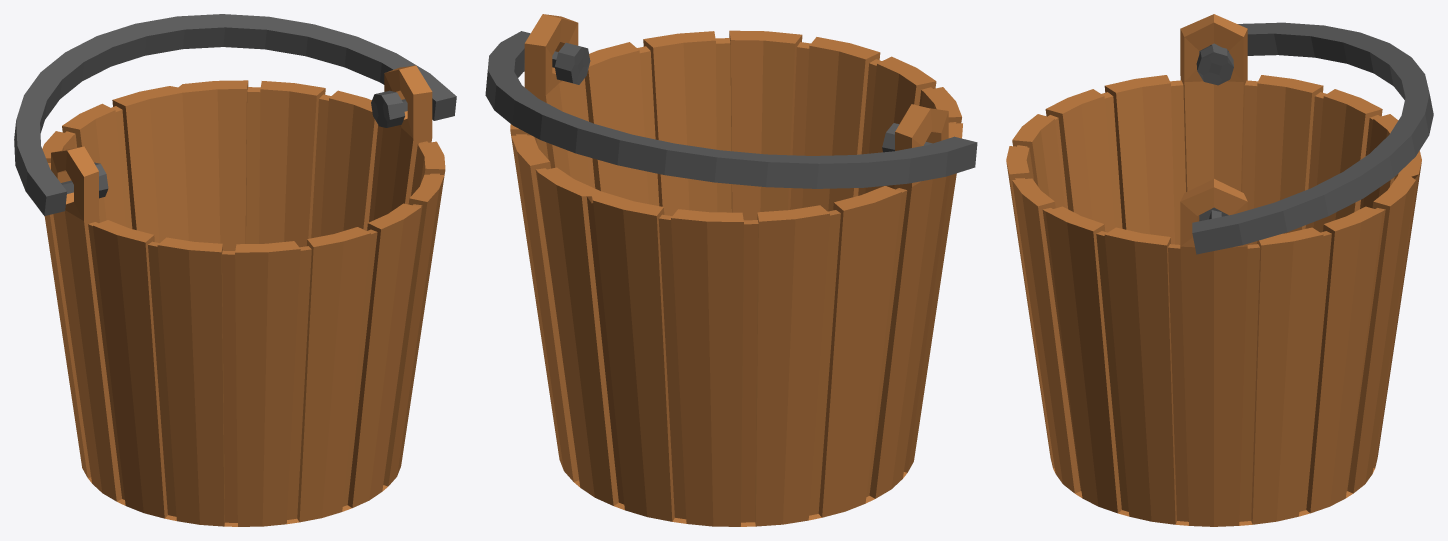
File: Bucket.fbx
The picture shows the model from 3 angles, left to right: view 1: azimuth 30°, elevation 25°; view 2: azimuth 150°, elevation 25°; view 3: azimuth 270°, elevation 25°; orthographic projection. The views are drawn at different scales.
Visible parts, largest first — view 1: Bucket_wood, Bucket_handle; view 2: Bucket_wood, Bucket_handle; view 3: Bucket_wood, Bucket_handle.
Boxes of the visible parts, box(x1,y1,x2,y2) form: Bucket_wood: box(42, 65, 445, 526); Bucket_handle: box(14, 14, 456, 215); Bucket_wood: box(510, 14, 962, 526); Bucket_handle: box(485, 31, 977, 188); Bucket_wood: box(1006, 14, 1421, 526); Bucket_handle: box(1192, 22, 1433, 254).
Bounding box in the file's own units: 295 × 246 × 261.
